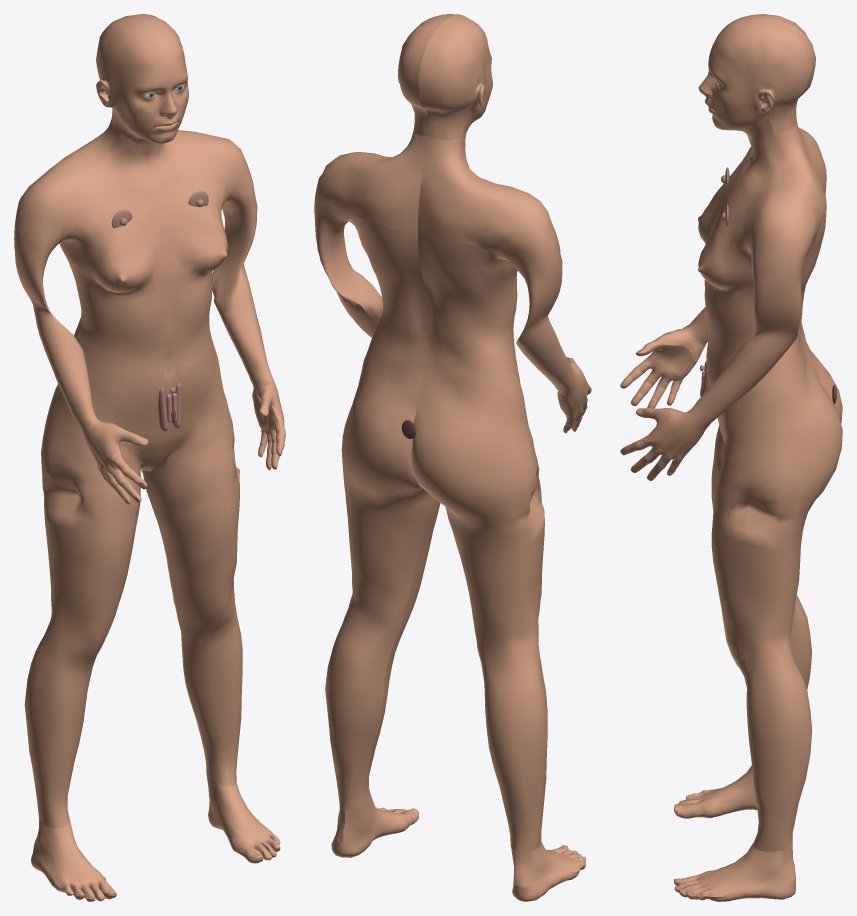
File: body-junger-erwachsener-weiblich-real-v3.glb
3 renders of one model, left to right at view 1: azimuth 30°, elevation 25°; view 2: azimuth 150°, elevation 25°; view 3: azimuth 270°, elevation 25°, orthographic. The views are drawn at different scales.
Visible parts, largest first — view 1: real-human-body; view 2: real-human-body; view 3: real-human-body.
Boxes of the visible parts, bbox=[...] form: real-human-body: bbox=[14, 14, 285, 901]; real-human-body: bbox=[314, 14, 591, 901]; real-human-body: bbox=[620, 14, 842, 901].
Bounding box in the file's own units: 0.503 × 1.72 × 0.4153.
8 materials, 1 textured.
